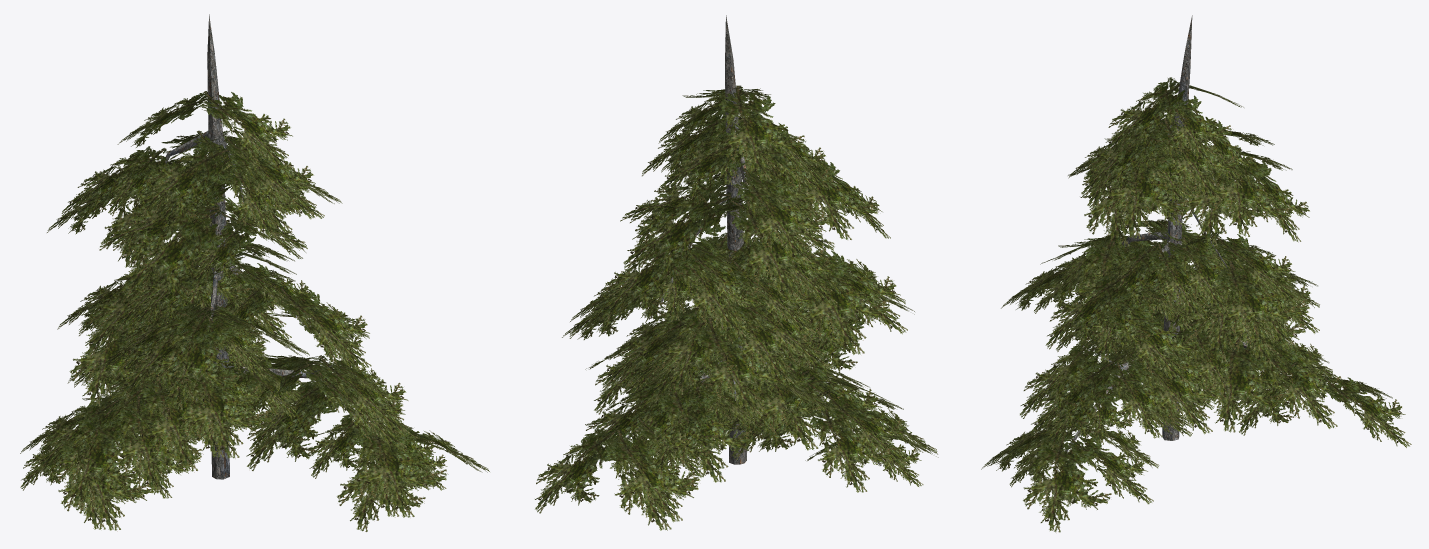
File: tree02.glb
The picture shows the model from 3 angles, left to right: view 1: azimuth 30°, elevation 25°; view 2: azimuth 150°, elevation 25°; view 3: azimuth 270°, elevation 25°; orthographic projection. The views are drawn at different scales.
Visible parts, largest first — view 1: 5_pngaaa.com-2004453_0, 5_bark-2_0; view 2: 5_pngaaa.com-2004453_0, 5_bark-2_0; view 3: 5_pngaaa.com-2004453_0, 5_bark-2_0.
Part boxes in pixels (box(x1,y1,x2,y2)): 5_pngaaa.com-2004453_0: box(20, 91, 489, 531); 5_bark-2_0: box(60, 14, 369, 479); 5_pngaaa.com-2004453_0: box(535, 85, 938, 530); 5_bark-2_0: box(625, 15, 881, 465); 5_pngaaa.com-2004453_0: box(981, 77, 1411, 532); 5_bark-2_0: box(1065, 15, 1317, 451).
Size of the model in its own units: 8.14 by 8.81 by 8.16.
Materials: 2 (2 with a texture image).
